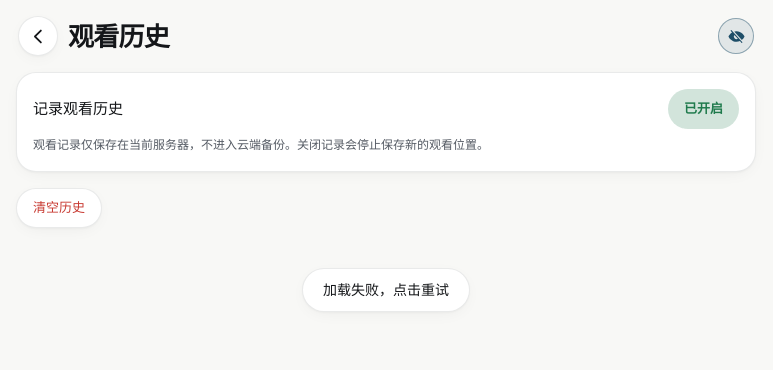
Test: retries history from the failed offset and reloads from zero after deleting a record in Strict Mode
Step 1. Click the button "加载失败，点击重试" → [386, 290], box top-left (302, 268), bottom-right (470, 312)
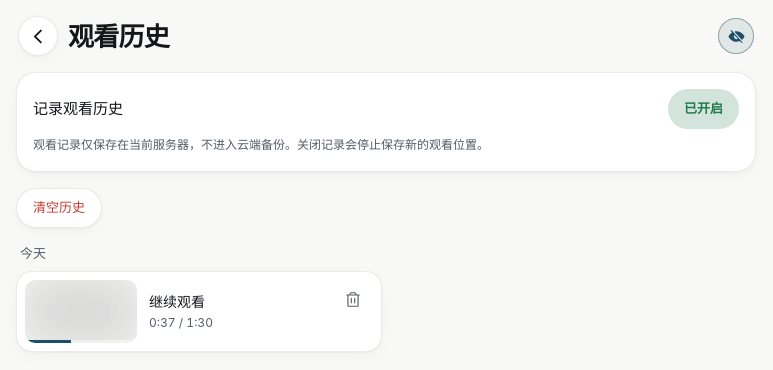
Result: the number of pictures is 1 at top-left (25, 280), bottom-right (137, 343)
Step 2. Click the button named "删除第 1 条历史" → [353, 300], box top-left (333, 280), bottom-right (373, 320)
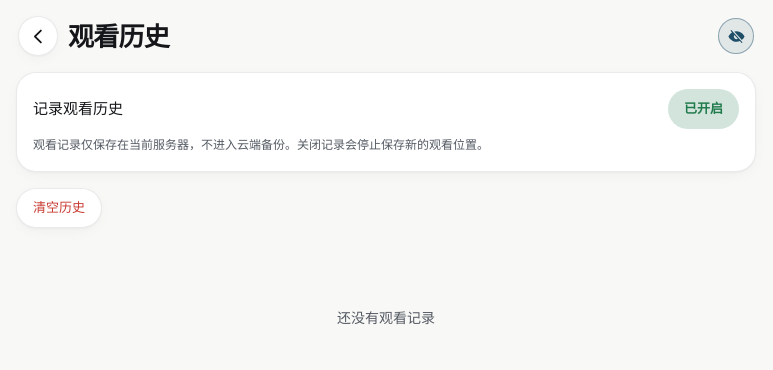
Result: the picture is gone
